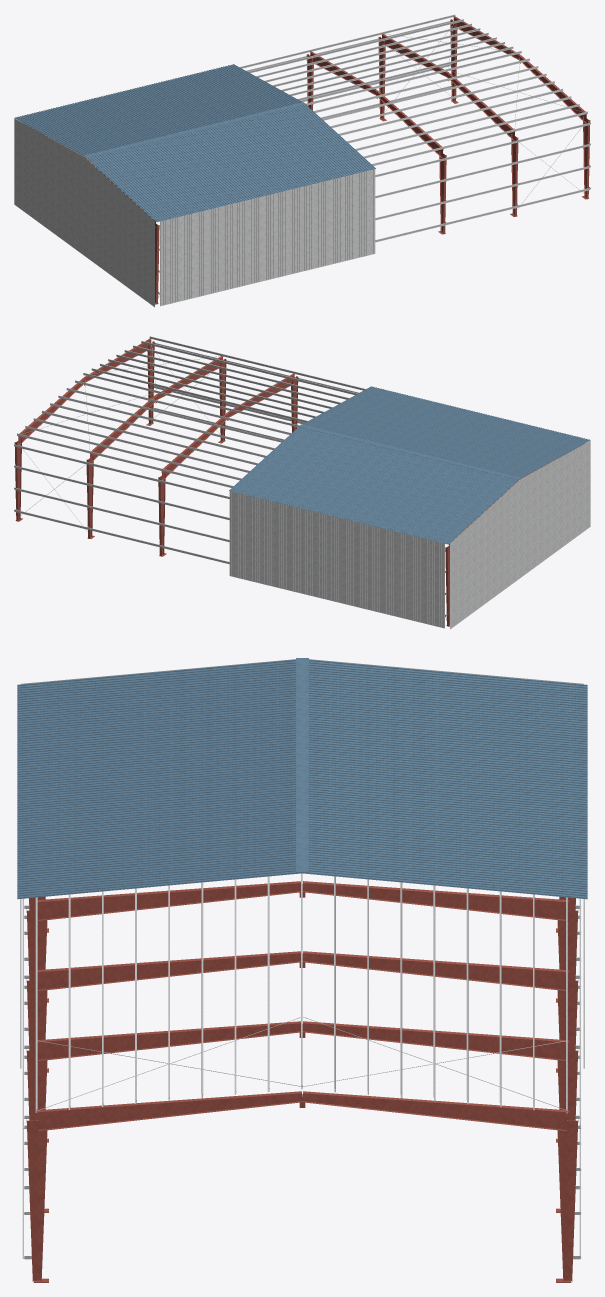
File: pre-engineered-building.glb
3 views of the same model, one above another, from view 1: azimuth 30°, elevation 25°; view 2: azimuth 150°, elevation 25°; view 3: azimuth 270°, elevation 25° (orthographic). The views are drawn at different scales.
Parts seen in each view (by area): view 1: WallCladding, RoofSheeting, RoofPurlins, TaperedMainFrames, WallGirts, RodBracing; view 2: WallCladding, RoofSheeting, RoofPurlins, TaperedMainFrames, WallGirts, RodBracing; view 3: RoofSheeting, TaperedMainFrames, RoofPurlins, WallGirts, WallCladding, RodBracing.
Boxes of the visible parts, <box> form: WallCladding: <box>14,65,375,307</box>; RoofSheeting: <box>14,64,375,222</box>; RoofPurlins: <box>239,14,587,165</box>; TaperedMainFrames: <box>23,16,590,304</box>; WallGirts: <box>157,21,590,294</box>; RodBracing: <box>159,16,586,296</box>; WallCladding: <box>229,387,590,629</box>; RoofSheeting: <box>229,386,590,544</box>; RoofPurlins: <box>17,336,365,487</box>; TaperedMainFrames: <box>14,338,580,626</box>; WallGirts: <box>14,343,447,616</box>; RodBracing: <box>18,338,446,619</box>; RoofSheeting: <box>17,658,587,899</box>; TaperedMainFrames: <box>26,881,578,1281</box>; RoofPurlins: <box>35,873,567,1113</box>; WallGirts: <box>22,898,581,1259</box>; WallCladding: <box>20,659,584,1068</box>; RodBracing: <box>37,1017,567,1120</box>.
Bounding box in the file's own units: 45.7 × 9.91 × 25.8.
4 materials, 4 textured.
